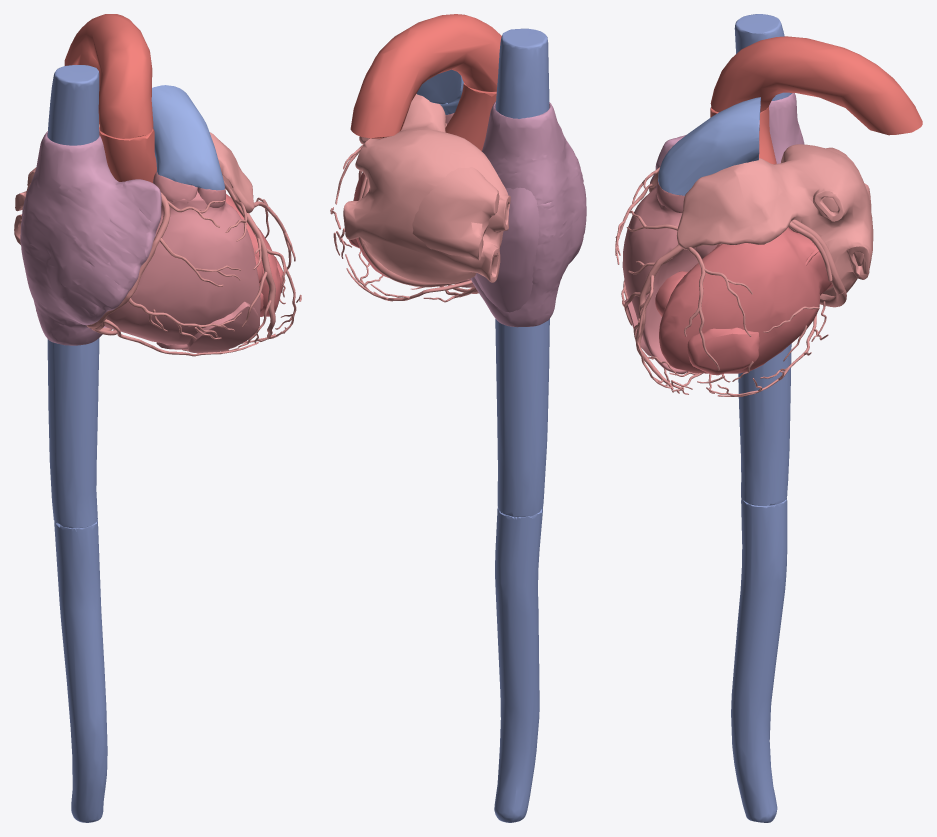
Rendered from heart.glb.
3 views of the same model, side by side, from view 1: azimuth 30°, elevation 25°; view 2: azimuth 150°, elevation 25°; view 3: azimuth 270°, elevation 25° (orthographic). The views are drawn at different scales.
Parts seen in each view (by area): view 1: veins, right_atrium, right_ventricle, aorta, heart_other, pulmonary_trunk, left_atrium, left_ventricle; view 2: veins, left_atrium, right_atrium, aorta, heart_other, pulmonary_trunk; view 3: veins, left_ventricle, left_atrium, aorta, heart_other, right_ventricle, pulmonary_trunk, right_atrium.
Boxes of the visible parts, bbox=[...] form: veins: bbox=[47, 65, 107, 822]; right_atrium: bbox=[20, 131, 161, 345]; right_ventricle: bbox=[104, 171, 260, 353]; aorta: bbox=[64, 14, 156, 182]; heart_other: bbox=[86, 181, 301, 356]; pulmonary_trunk: bbox=[151, 85, 225, 190]; left_atrium: bbox=[14, 132, 254, 244]; left_ventricle: bbox=[225, 194, 283, 316]; veins: bbox=[494, 28, 549, 822]; left_atrium: bbox=[343, 94, 510, 283]; right_atrium: bbox=[470, 101, 586, 327]; aorta: bbox=[350, 14, 501, 150]; heart_other: bbox=[330, 123, 478, 302]; pulmonary_trunk: bbox=[416, 69, 463, 114]; veins: bbox=[731, 14, 791, 822]; left_ventricle: bbox=[655, 227, 832, 375]; left_atrium: bbox=[676, 144, 873, 296]; aorta: bbox=[710, 36, 922, 164]; heart_other: bbox=[615, 167, 846, 396]; right_ventricle: bbox=[622, 177, 717, 374]; pulmonary_trunk: bbox=[658, 97, 760, 195]; right_atrium: bbox=[649, 93, 804, 190].
Size of the model in its own units: 0.1156 by 0.3662 by 0.1267.
